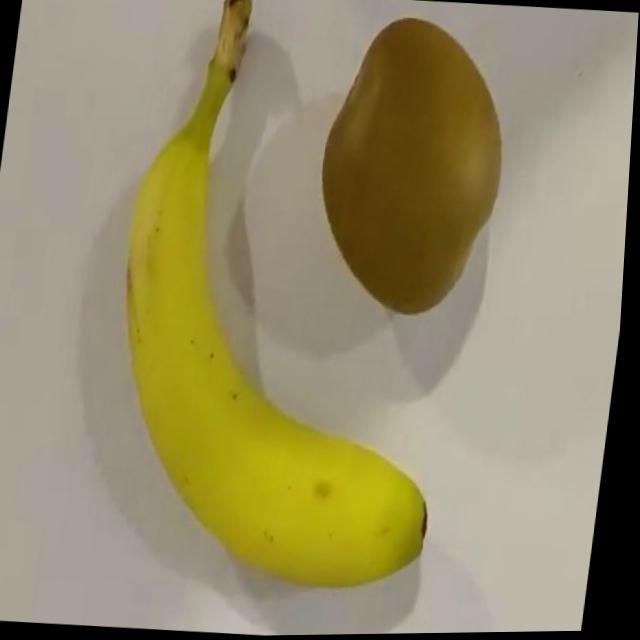Banana: (89, 0, 494, 601)
